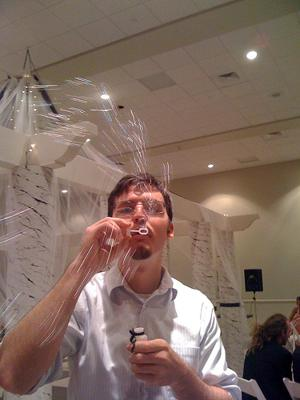person: (1, 173, 242, 400)
